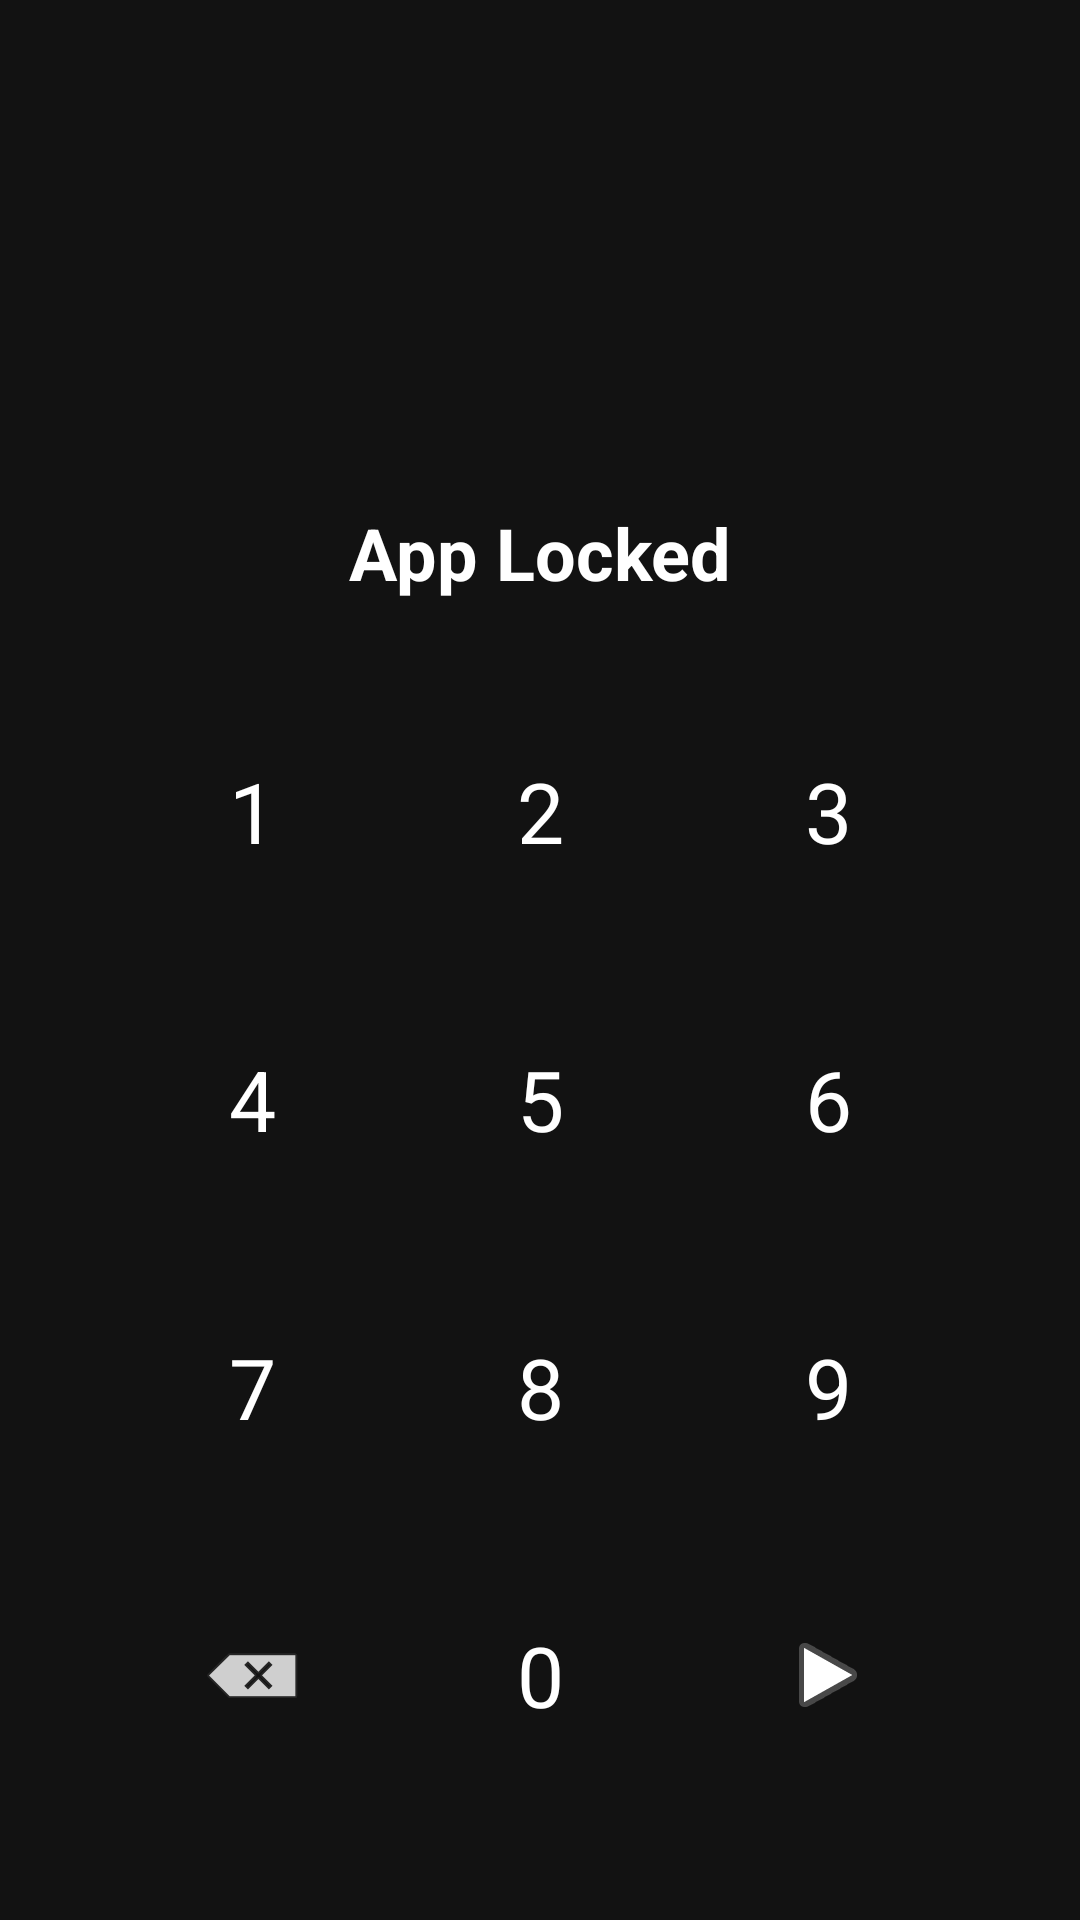

Screen size 1080*1920. Icon name, then its box in pixels as (x1, y1, x2, y2):
delete: (209, 1655, 296, 1697)
play: (799, 1643, 857, 1707)
